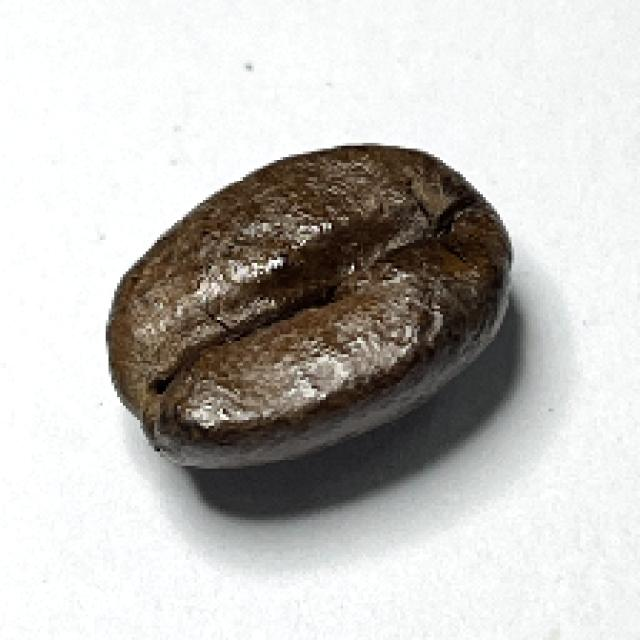bean: (102, 140, 514, 468)
